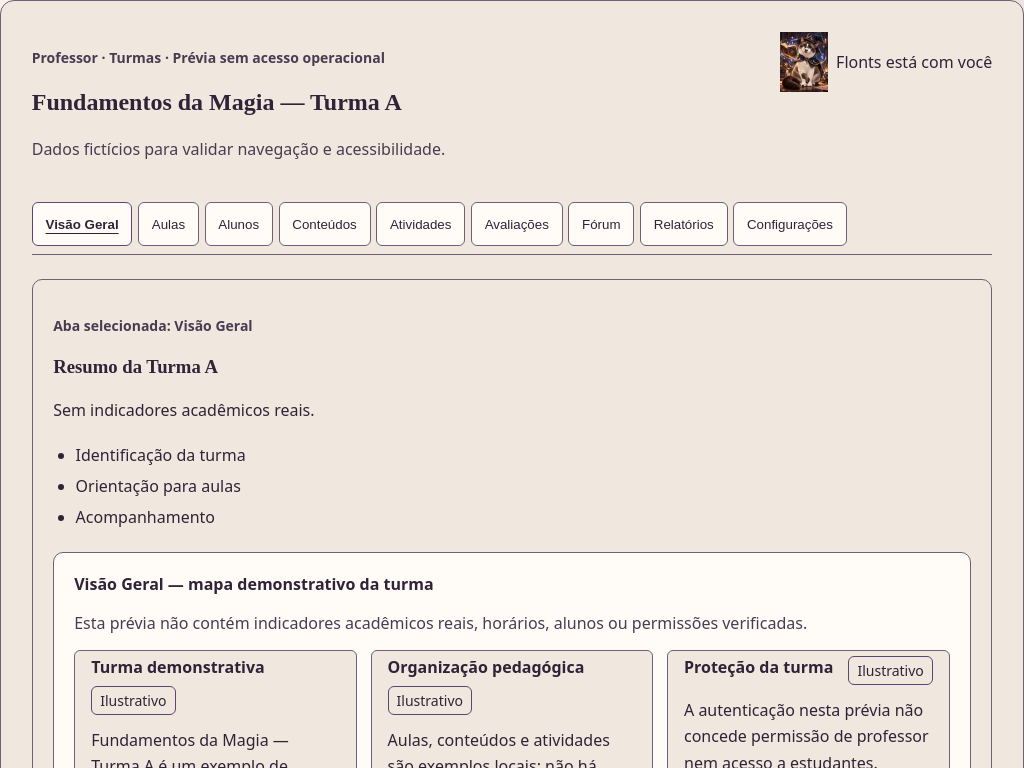
Scenario: Professor Turma A tabs prototype › shows material search only in the Conteúdos tab
The image size is (1024, 768).
Click the tab "Conteúdos" at (325, 224), box [278, 202, 371, 246]
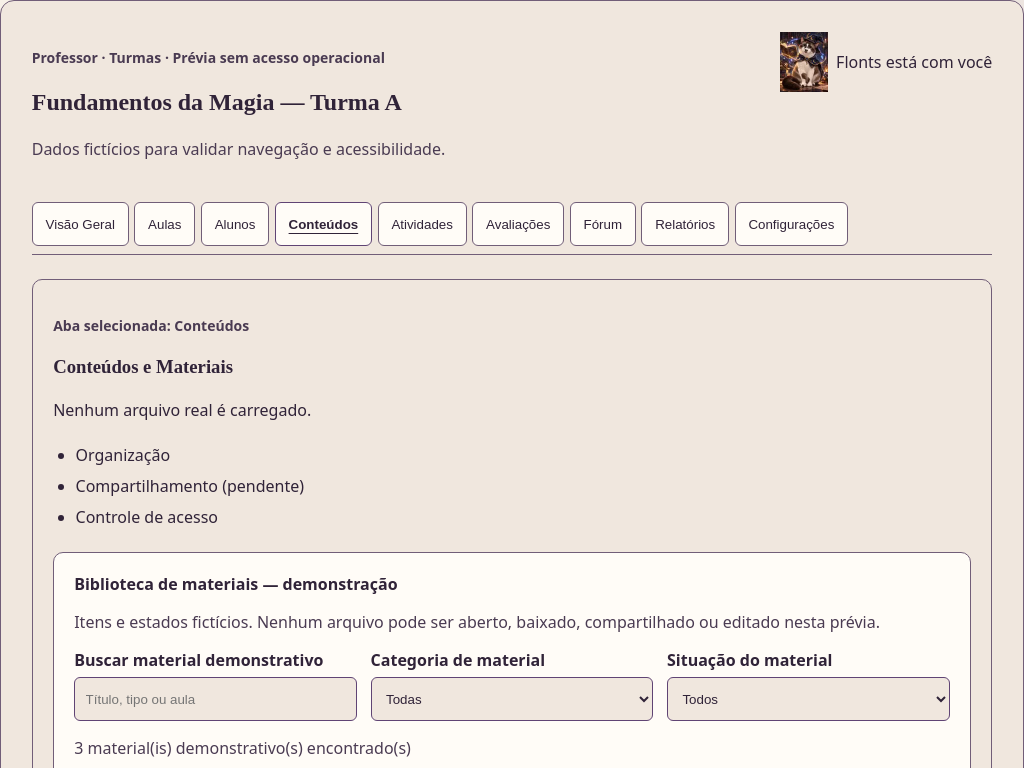
Expected: the panel shows "Biblioteca de materiais — demonstração", [74, 573, 398, 595]
Expected: the search field labelled "Buscar material demonstrativo" is shown, [74, 677, 357, 721]
Expected: the text "3 material(is) demonstrativo(s) encontrado(s)" is shown, [74, 737, 411, 759]
Click the tab "Aulas" at (165, 224), box [134, 202, 195, 246]
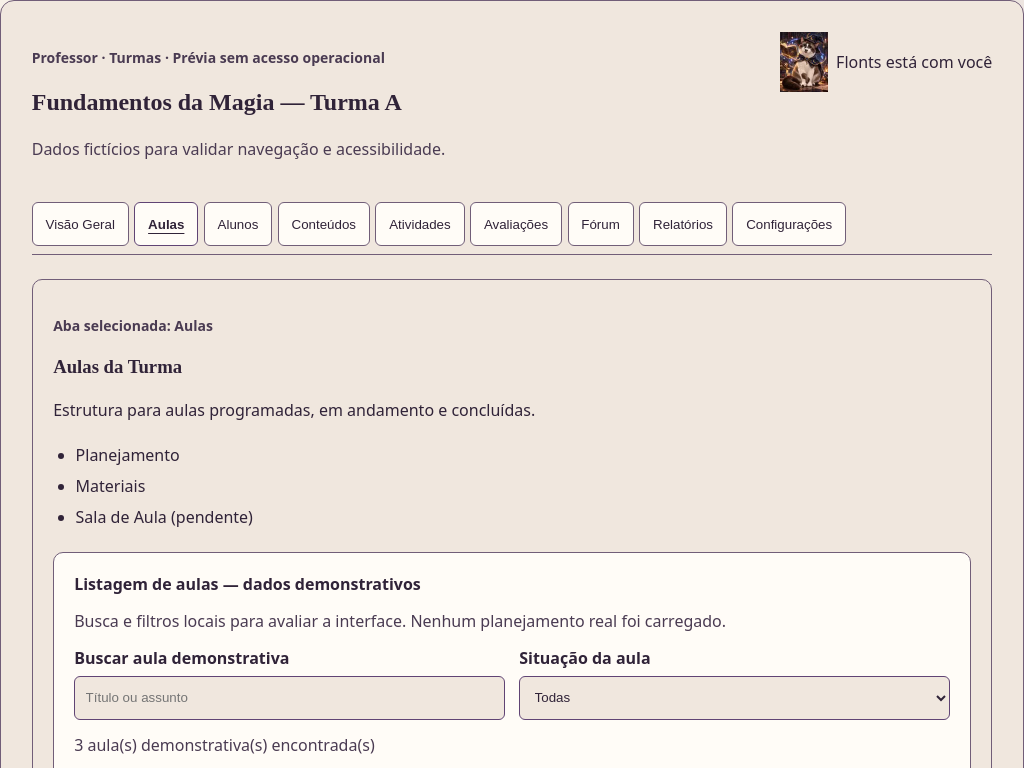
Expected: the search field labelled "Buscar aula demonstrativa" is shown, [74, 676, 505, 720]
Expected: the text "Buscar material demonstrativo" is gone
